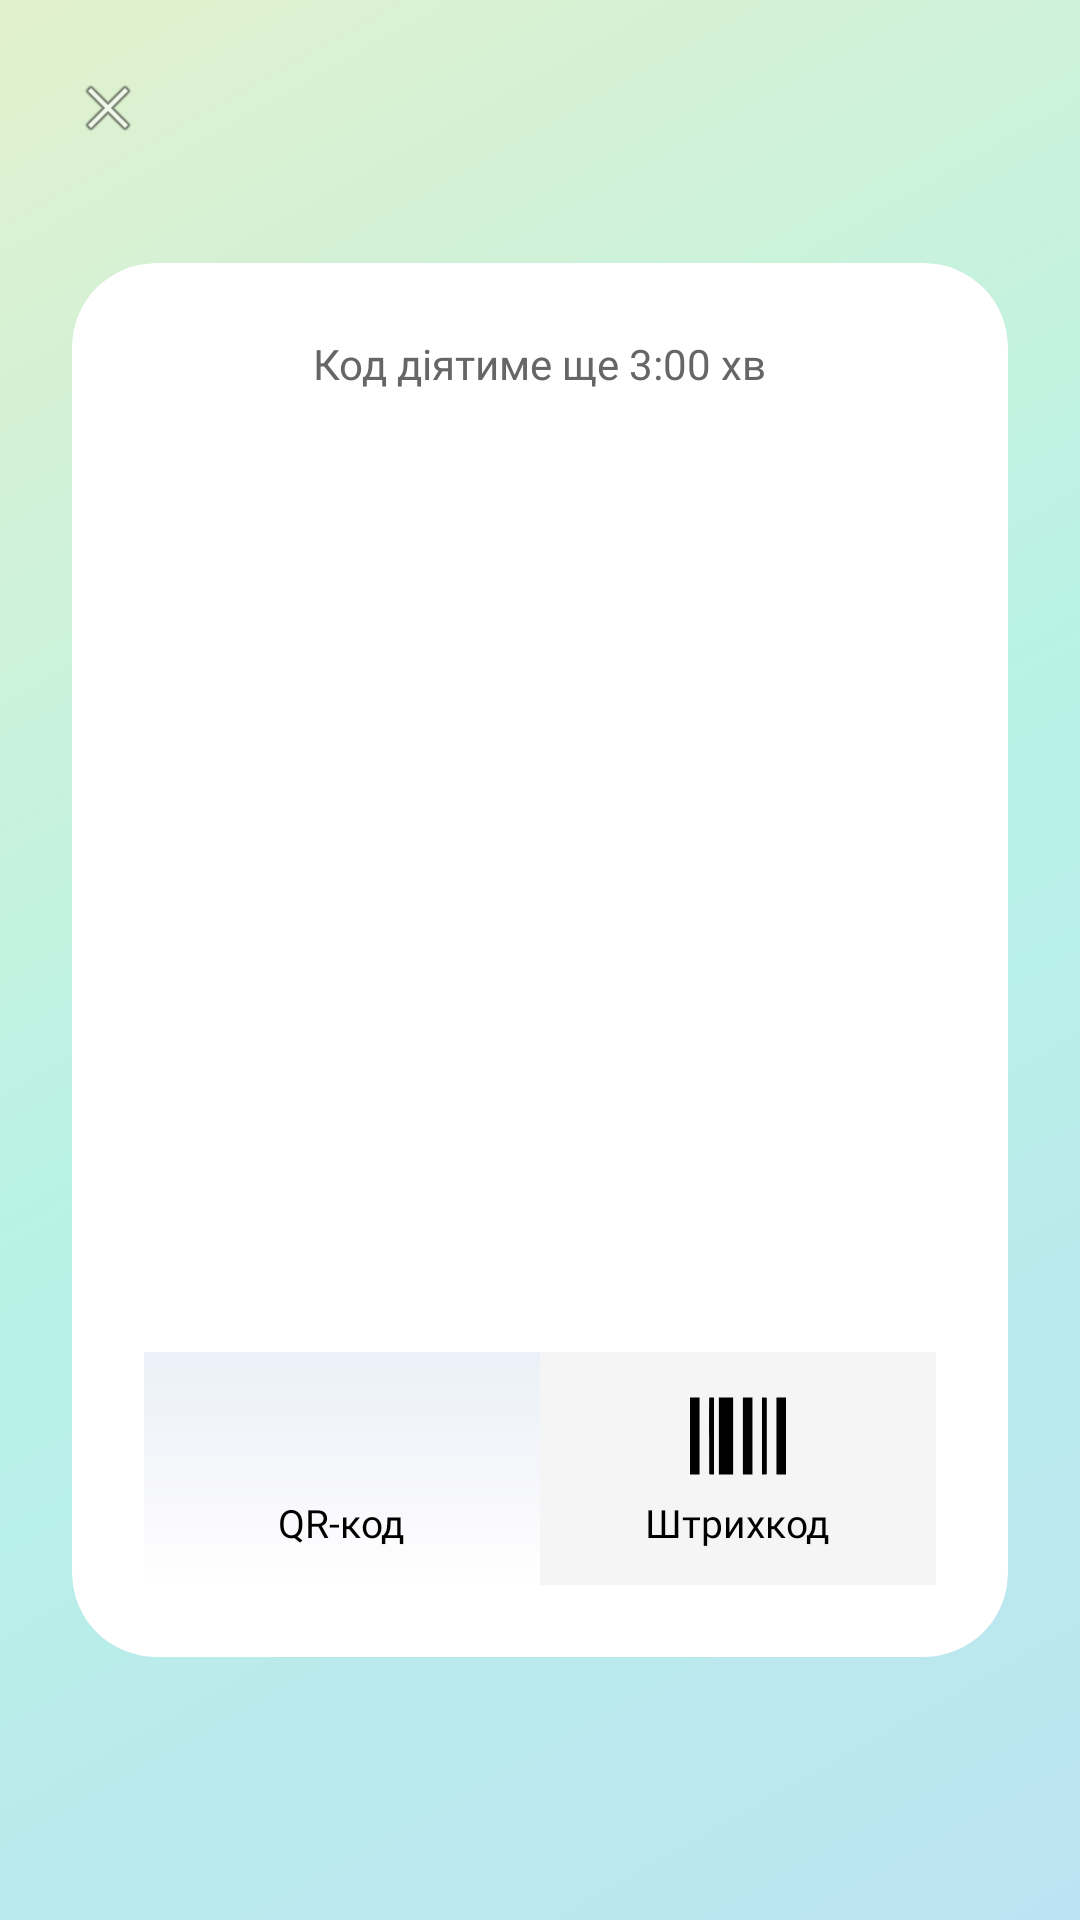

Point at icon controls on the screen. Image size 1080 × 1920, points as (x,y).
close clear cancel: (108,108)
